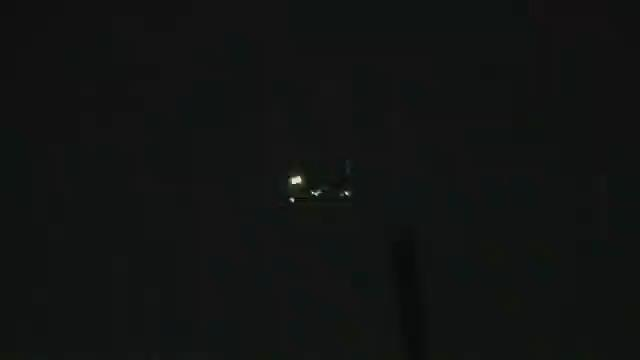Plane: (226, 154, 391, 215)
